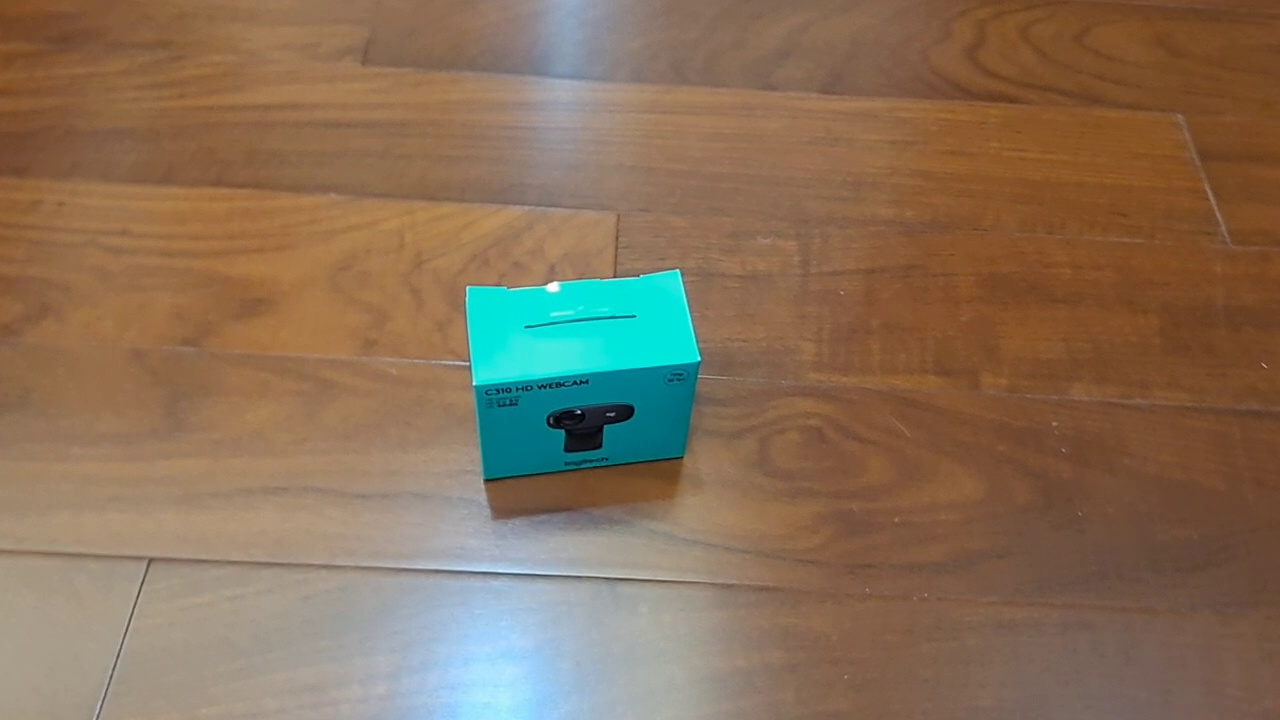webcam: (464, 267, 702, 482)
